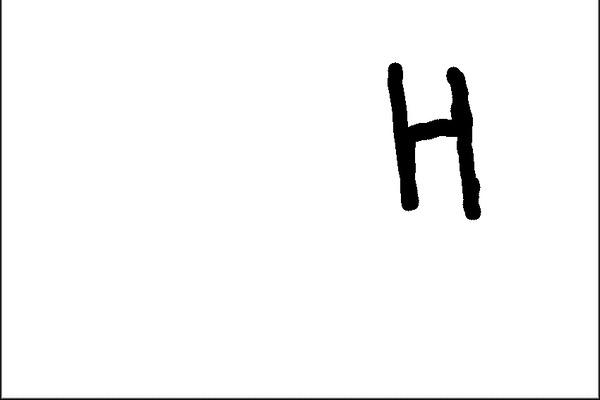H: (377, 51, 488, 223)
